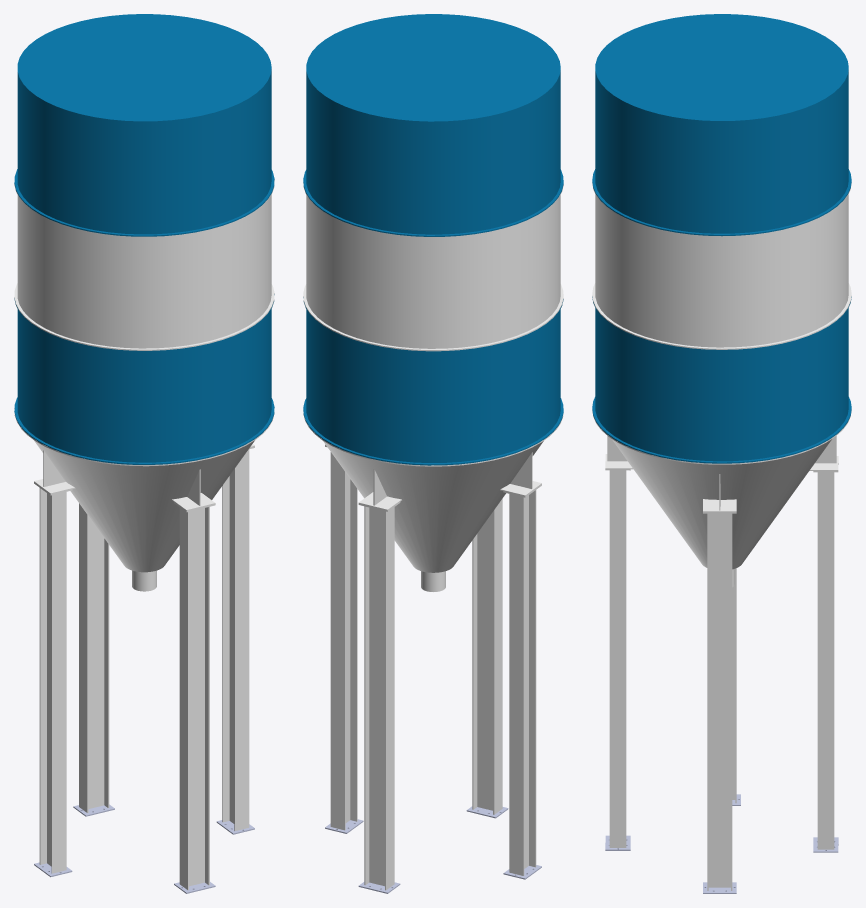
File: Beton Silosu.glb
3 renders of one model, left to right at view 1: azimuth 30°, elevation 25°; view 2: azimuth 150°, elevation 25°; view 3: azimuth 270°, elevation 25°, orthographic.
Visible parts, largest first — view 1: whitesolid, blue, color; view 2: whitesolid, blue, color; view 3: blue, whitesolid, color.
Boxes of the visible parts, box(x1,y1,x2,y2) form: whitesolid: box(14, 180, 274, 890); blue: box(14, 14, 274, 464); color: box(34, 804, 254, 893); whitesolid: box(303, 183, 563, 890); blue: box(303, 14, 563, 465); color: box(325, 806, 541, 893); blue: box(592, 14, 851, 463); whitesolid: box(592, 183, 851, 890); color: box(605, 794, 838, 893).
Bounding box in the file's own units: 3.1 × 10.24 × 3.1.
